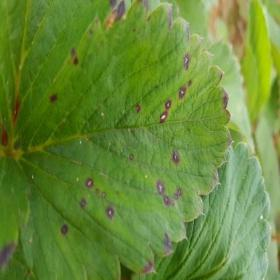Leaf Spot: (17, 0, 234, 279)
